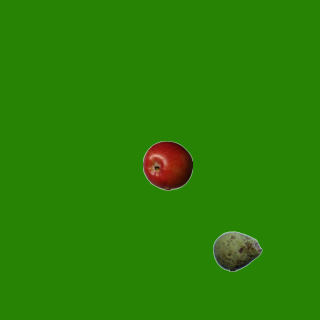Apple Braeburn: (142, 140, 192, 190)
Pear Stone: (212, 226, 262, 276)
